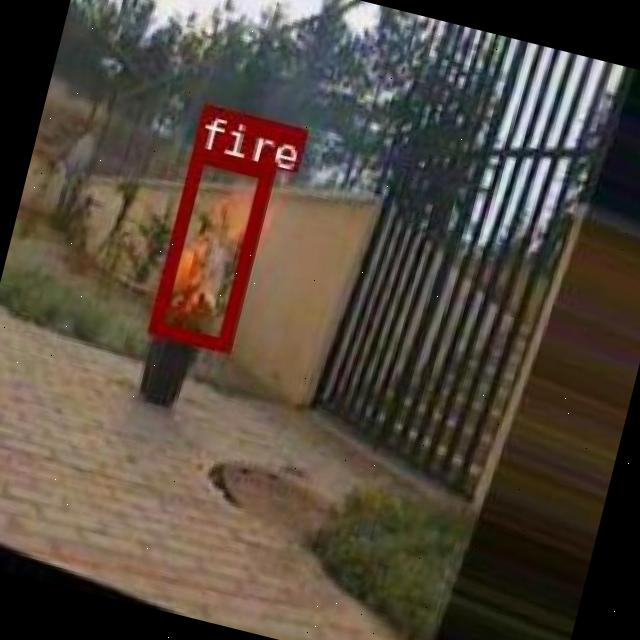fire: (147, 146, 273, 350)
